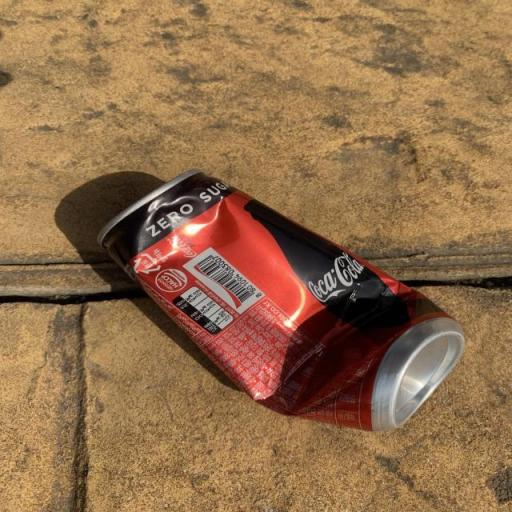metal: (78, 140, 478, 444)
